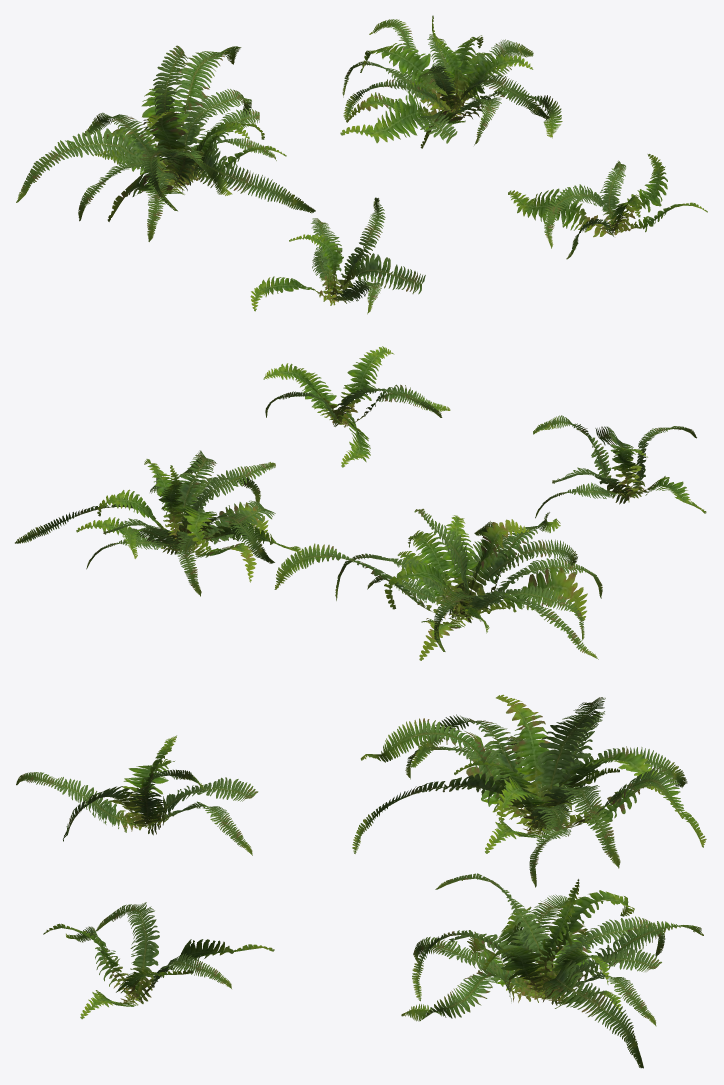
File: fern_02.glb
3 views of the same model, one above another, from view 1: azimuth 30°, elevation 25°; view 2: azimuth 150°, elevation 25°; view 3: azimuth 270°, elevation 25° (orthographic). The views are drawn at different scales.
Parts seen in each view (by area): view 1: fern_02_b, fern_02_c, fern_02_a, fern_02_d; view 2: fern_02_b, fern_02_c, fern_02_d, fern_02_a; view 3: fern_02_b, fern_02_c, fern_02_a, fern_02_d.
Boxes of the visible parts, x1,y1,x2,y2 form: fern_02_b: (16,45,315,241); fern_02_c: (340,15,562,148); fern_02_a: (250,197,425,314); fern_02_d: (508,154,707,259); fern_02_b: (274,508,602,660); fern_02_c: (15,450,301,596); fern_02_d: (263,346,450,467); fern_02_a: (533,415,706,518); fern_02_b: (352,694,706,887); fern_02_c: (401,873,703,1068); fern_02_a: (16,735,258,855); fern_02_d: (43,902,274,1019).
Size of the model in its own units: 1.97 by 0.4277 by 1.72.
1 material, 1 textured.
